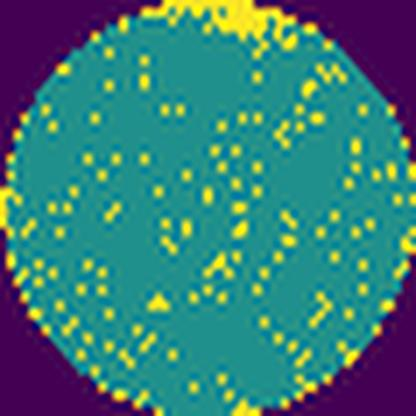Edge-Loc: (142, 0, 298, 50)
